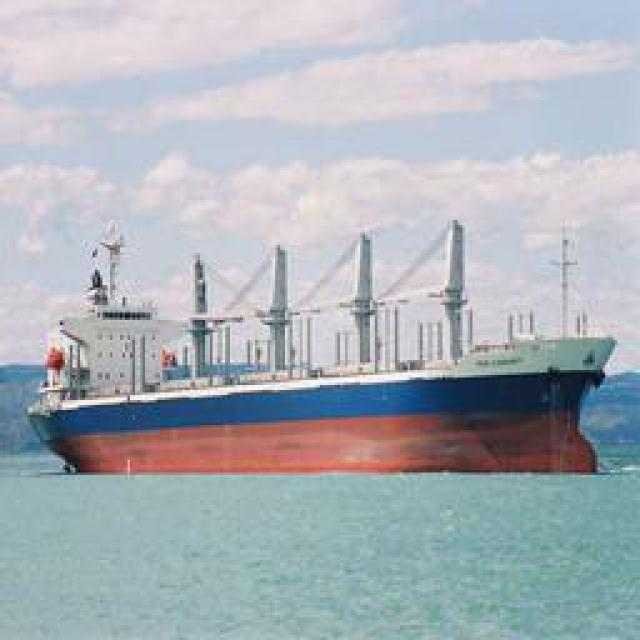Ship: (31, 217, 616, 475)
